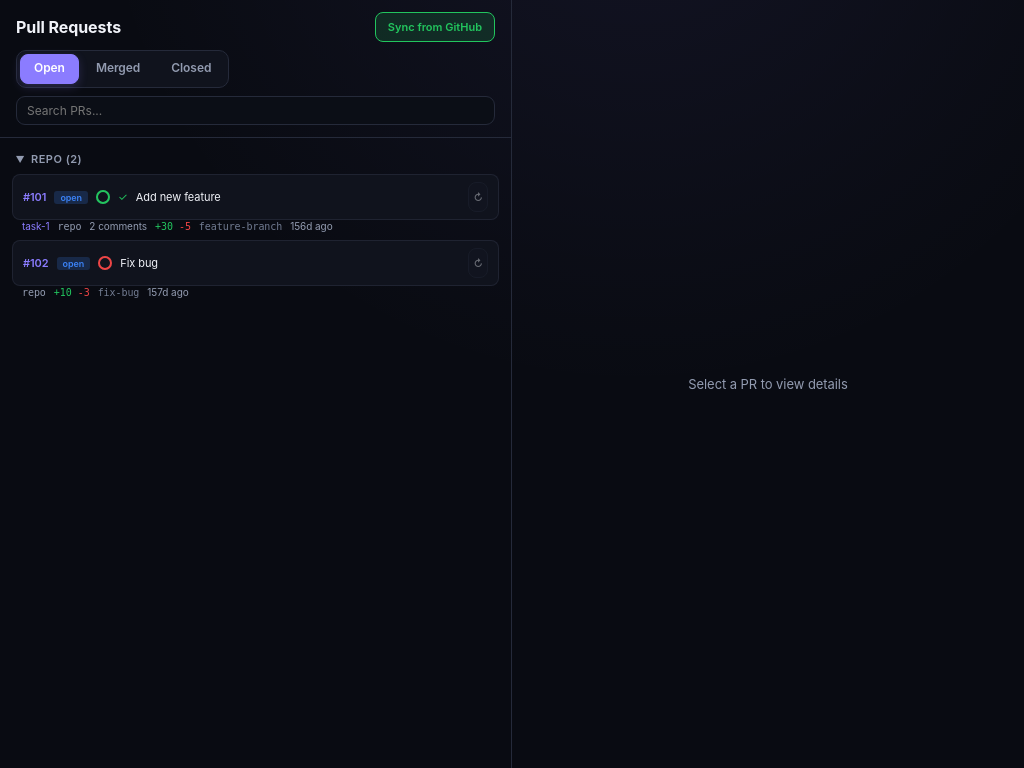
Test: PRsPage › collapsing a group header hides its PRs
expect the text "Add new feature" is shown: met, box [136, 190, 221, 204]
# Click the group header to collapse
Click the element with test id "pr-group-header-example/repo" at (49, 159), box [15, 152, 82, 166]
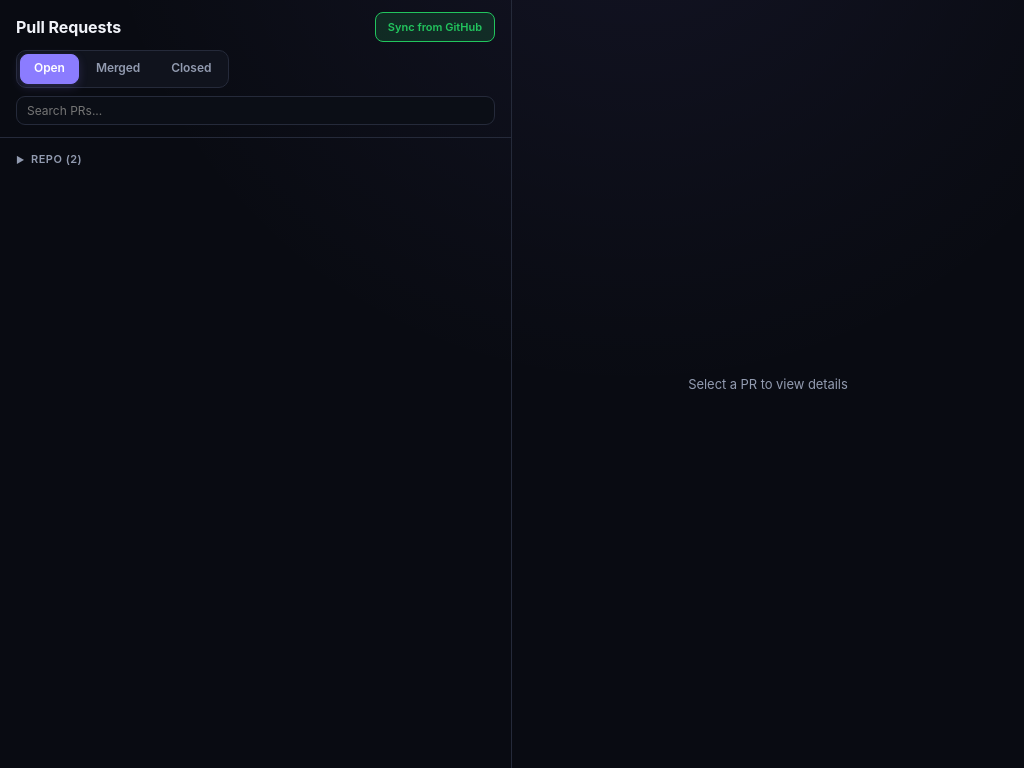
expect the text "Add new feature" is gone: met
expect the text "Fix bug" is gone: met
# Click again to expand
Click the element with test id "pr-group-header-example/repo" at (49, 159), box [16, 152, 82, 166]
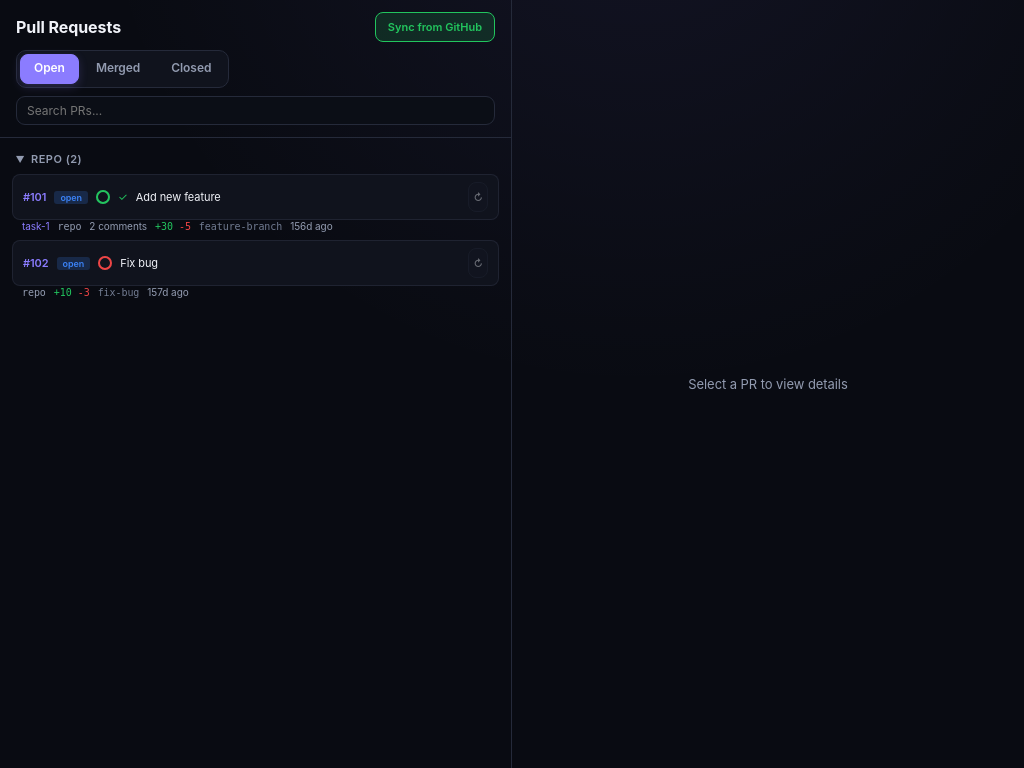
expect the text "Add new feature" is shown: met, box [136, 190, 221, 204]
expect the text "Fix bug" is shown: met, box [120, 256, 158, 270]
